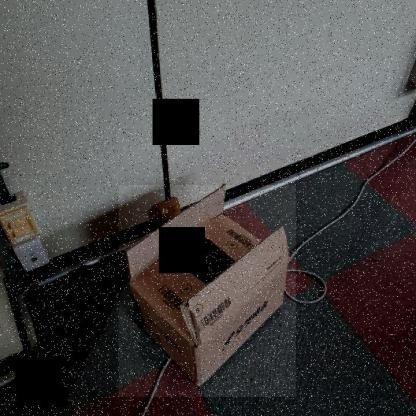-: (118, 185, 296, 397)
